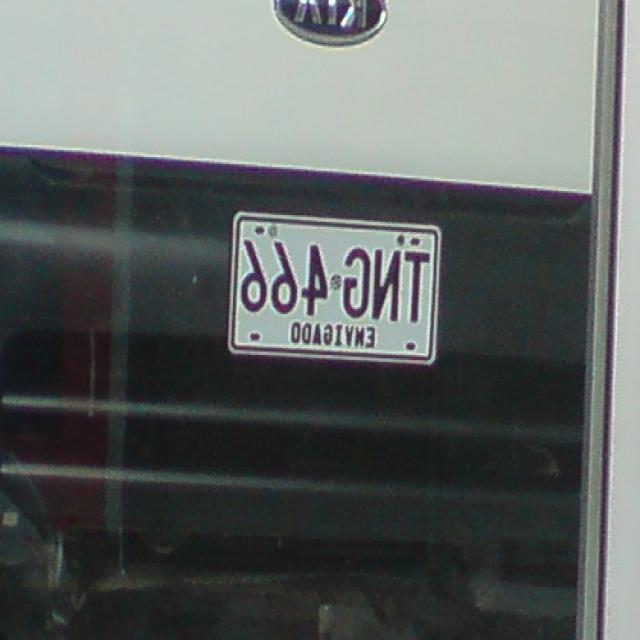placas: (232, 228, 430, 327)
